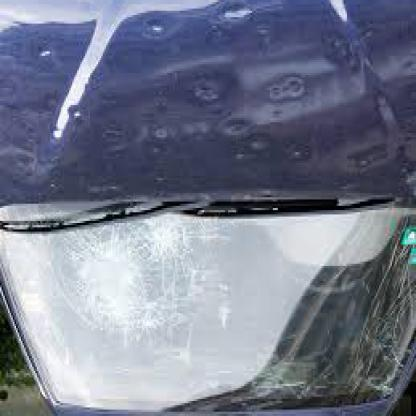dent: (271, 72, 304, 108), (220, 3, 254, 25), (139, 16, 173, 38)
